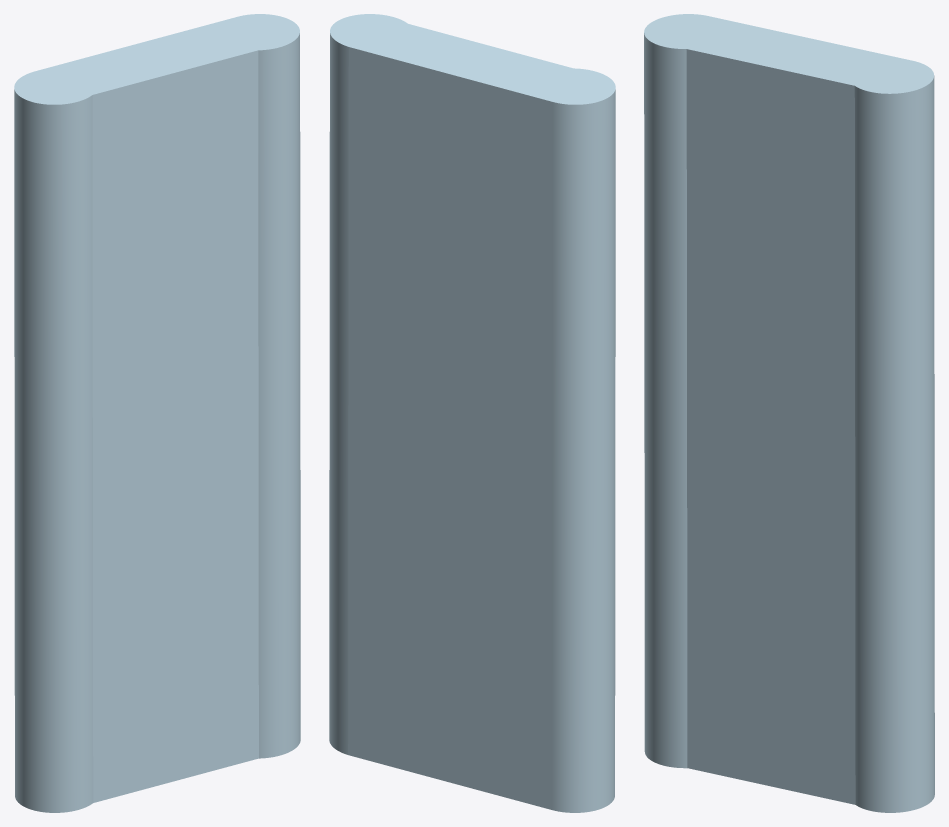
Rendered from rod-mid.glb.
3 renders of one model, left to right at view 1: azimuth 30°, elevation 25°; view 2: azimuth 150°, elevation 25°; view 3: azimuth 330°, elevation 25°, orthographic.
Visible parts, largest first — view 1: Part 1.003; view 2: Part 1.003; view 3: Part 1.003.
Part boxes in pixels (x1,y1,x2,y2): Part 1.003: (14, 14, 300, 812); Part 1.003: (329, 14, 615, 812); Part 1.003: (644, 14, 934, 812).
Bounding box in the file's own units: 0.4087 × 1.01 × 0.1078.
